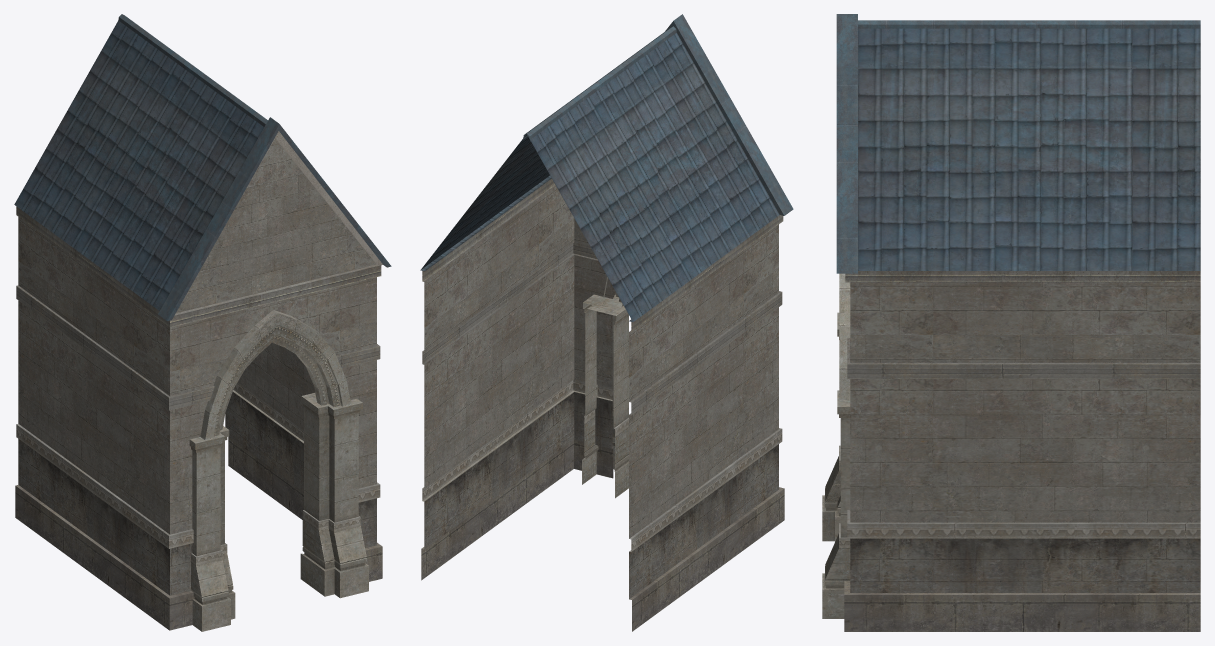
File: bg_lut_lucastle_housedoor02_sm_sup.FBX
The picture shows the model from 3 angles, left to right: view 1: azimuth 30°, elevation 25°; view 2: azimuth 150°, elevation 25°; view 3: azimuth 270°, elevation 25°; orthographic projection. The views are drawn at different scales.
Parts seen in each view (by area): view 1: bg_lut_lucastle_housedoor02_sm_sup; view 2: bg_lut_lucastle_housedoor02_sm_sup; view 3: bg_lut_lucastle_housedoor02_sm_sup.
Part boxes in pixels (x1=…): bg_lut_lucastle_housedoor02_sm_sup: x1=14, y1=14, x2=391, y2=631; bg_lut_lucastle_housedoor02_sm_sup: x1=420, y1=14, x2=793, y2=631; bg_lut_lucastle_housedoor02_sm_sup: x1=822, y1=14, x2=1200, y2=631.
Size of the model in its own units: 292 by 601 by 369.
